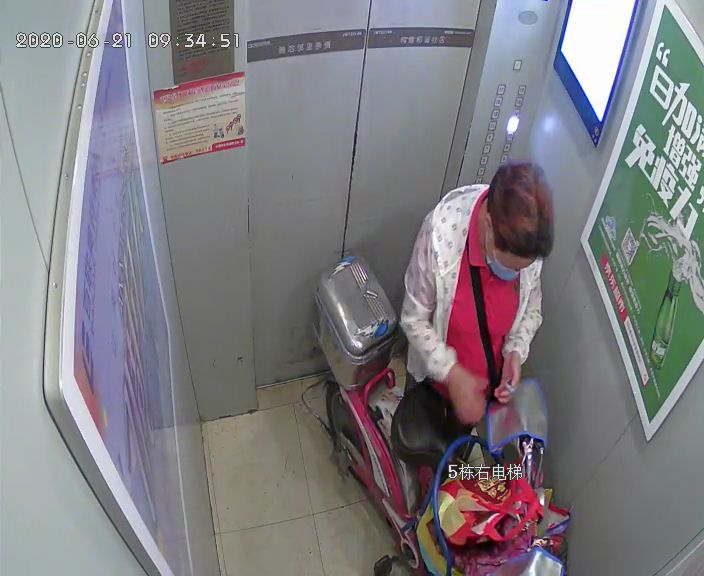Electric-bicycle: (310, 259, 562, 575)
